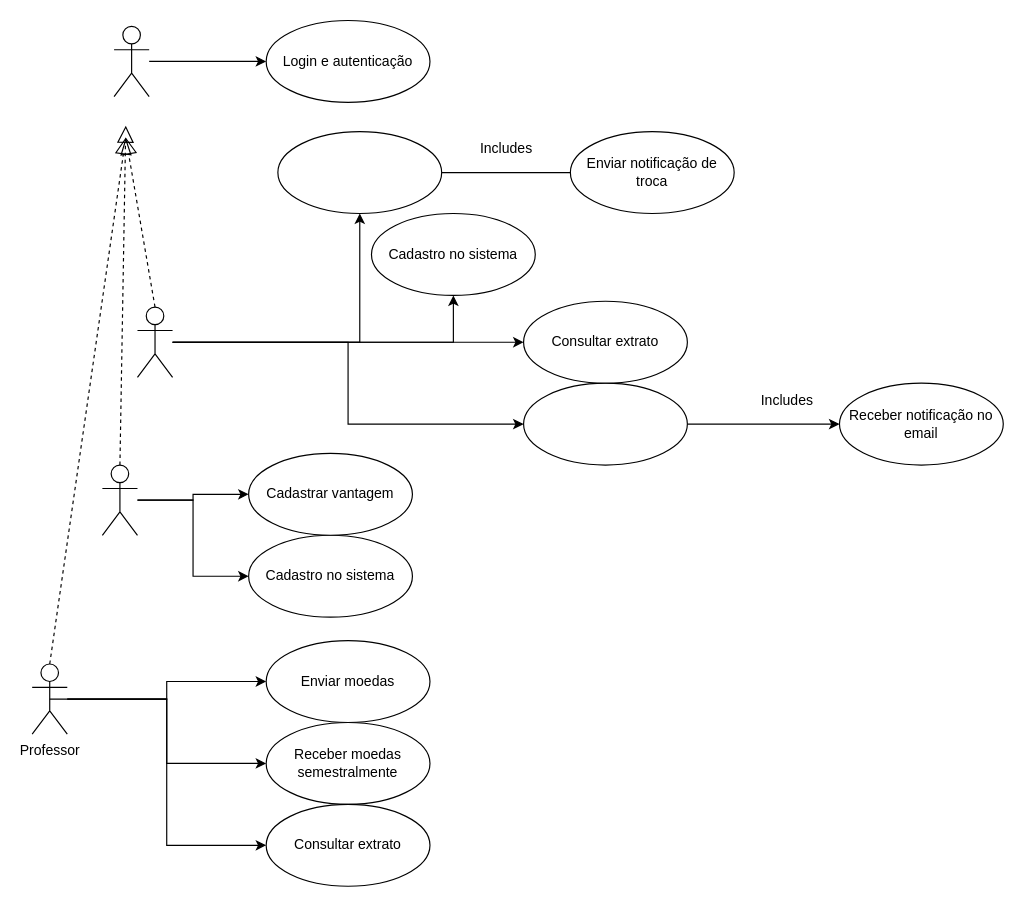
Some shapes in this 1024 by 907 pixel diagram are drawn without their labels. The centre of each missing label's shape, as x and y in pixels:
Aluno: the point at 154,341
Empresa: the point at 119,499
Receber moedas do professor: the point at 604,423
Trocar moedas por vantagens: the point at 359,172
Usuário: the point at 131,61
